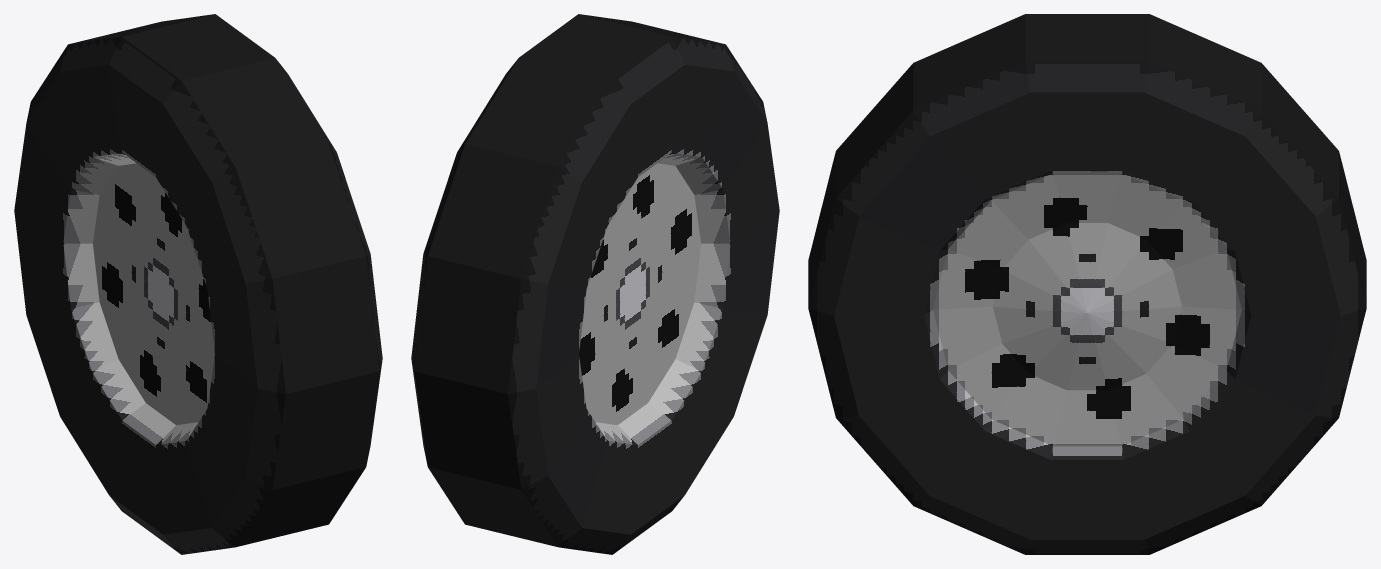
File: wheel_abarth_classic_r.glb
3 renders of one model, left to right at view 1: azimuth 30°, elevation 25°; view 2: azimuth 150°, elevation 25°; view 3: azimuth 270°, elevation 25°, orthographic. The views are drawn at different scales.
Parts seen in each view (by area): view 1: Wheel; view 2: Wheel; view 3: Wheel.
Boxes of the visible parts, x1,y1,x2,y2 form: Wheel: (14, 14, 382, 554); Wheel: (411, 14, 779, 554); Wheel: (808, 14, 1366, 554).
Size of the model in its own units: 0.145 by 0.5265 by 0.54.
2 materials, 1 textured.
